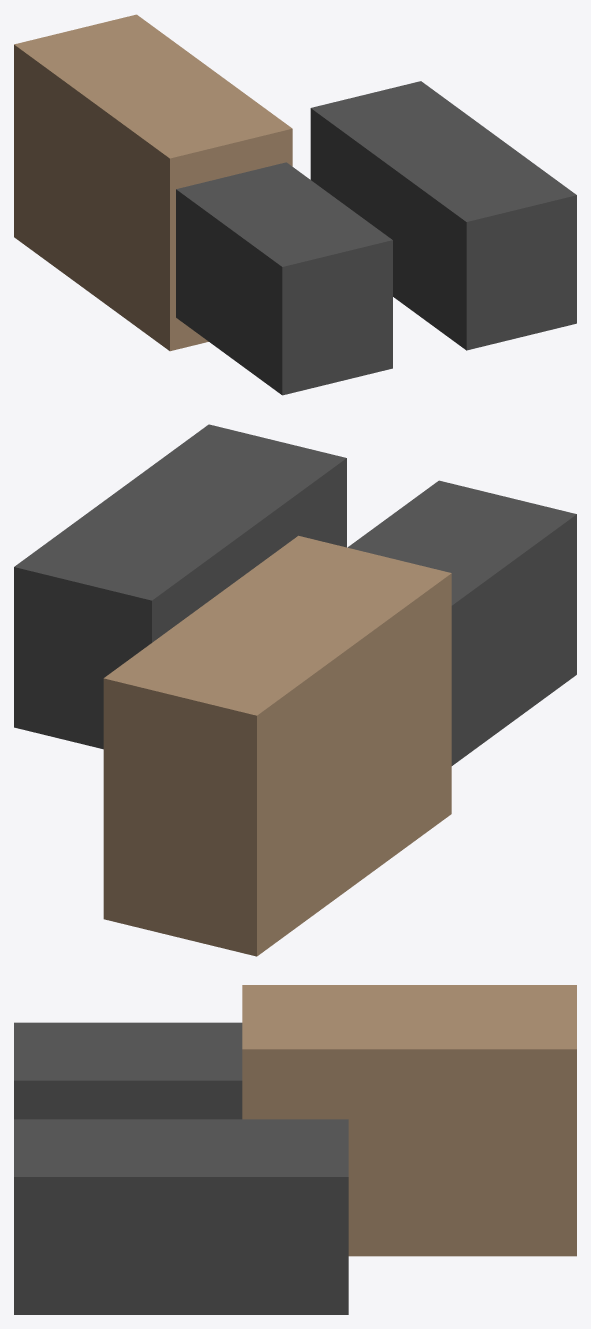
File: footwear_set.glb
3 views of the same model, one above another, from view 1: azimuth 30°, elevation 25°; view 2: azimuth 150°, elevation 25°; view 3: azimuth 270°, elevation 25° (orthographic). The views are drawn at different scales.
Parts seen in each view (by area): view 1: boot_l, shoe_r, shoe_l; view 2: boot_l, shoe_r, shoe_l; view 3: boot_l, shoe_r, shoe_l.
Boxes of the visible parts, x1,y1,x2,y2 form: boot_l: [14, 14, 292, 351]; shoe_r: [310, 81, 576, 350]; shoe_l: [176, 162, 392, 395]; boot_l: [103, 535, 451, 956]; shoe_r: [14, 424, 346, 749]; shoe_l: [347, 480, 576, 765]; boot_l: [242, 985, 576, 1256]; shoe_r: [14, 1119, 348, 1314]; shoe_l: [14, 1022, 242, 1119].
Size of the model in its own units: 0.4899 by 0.3 by 0.7399.
